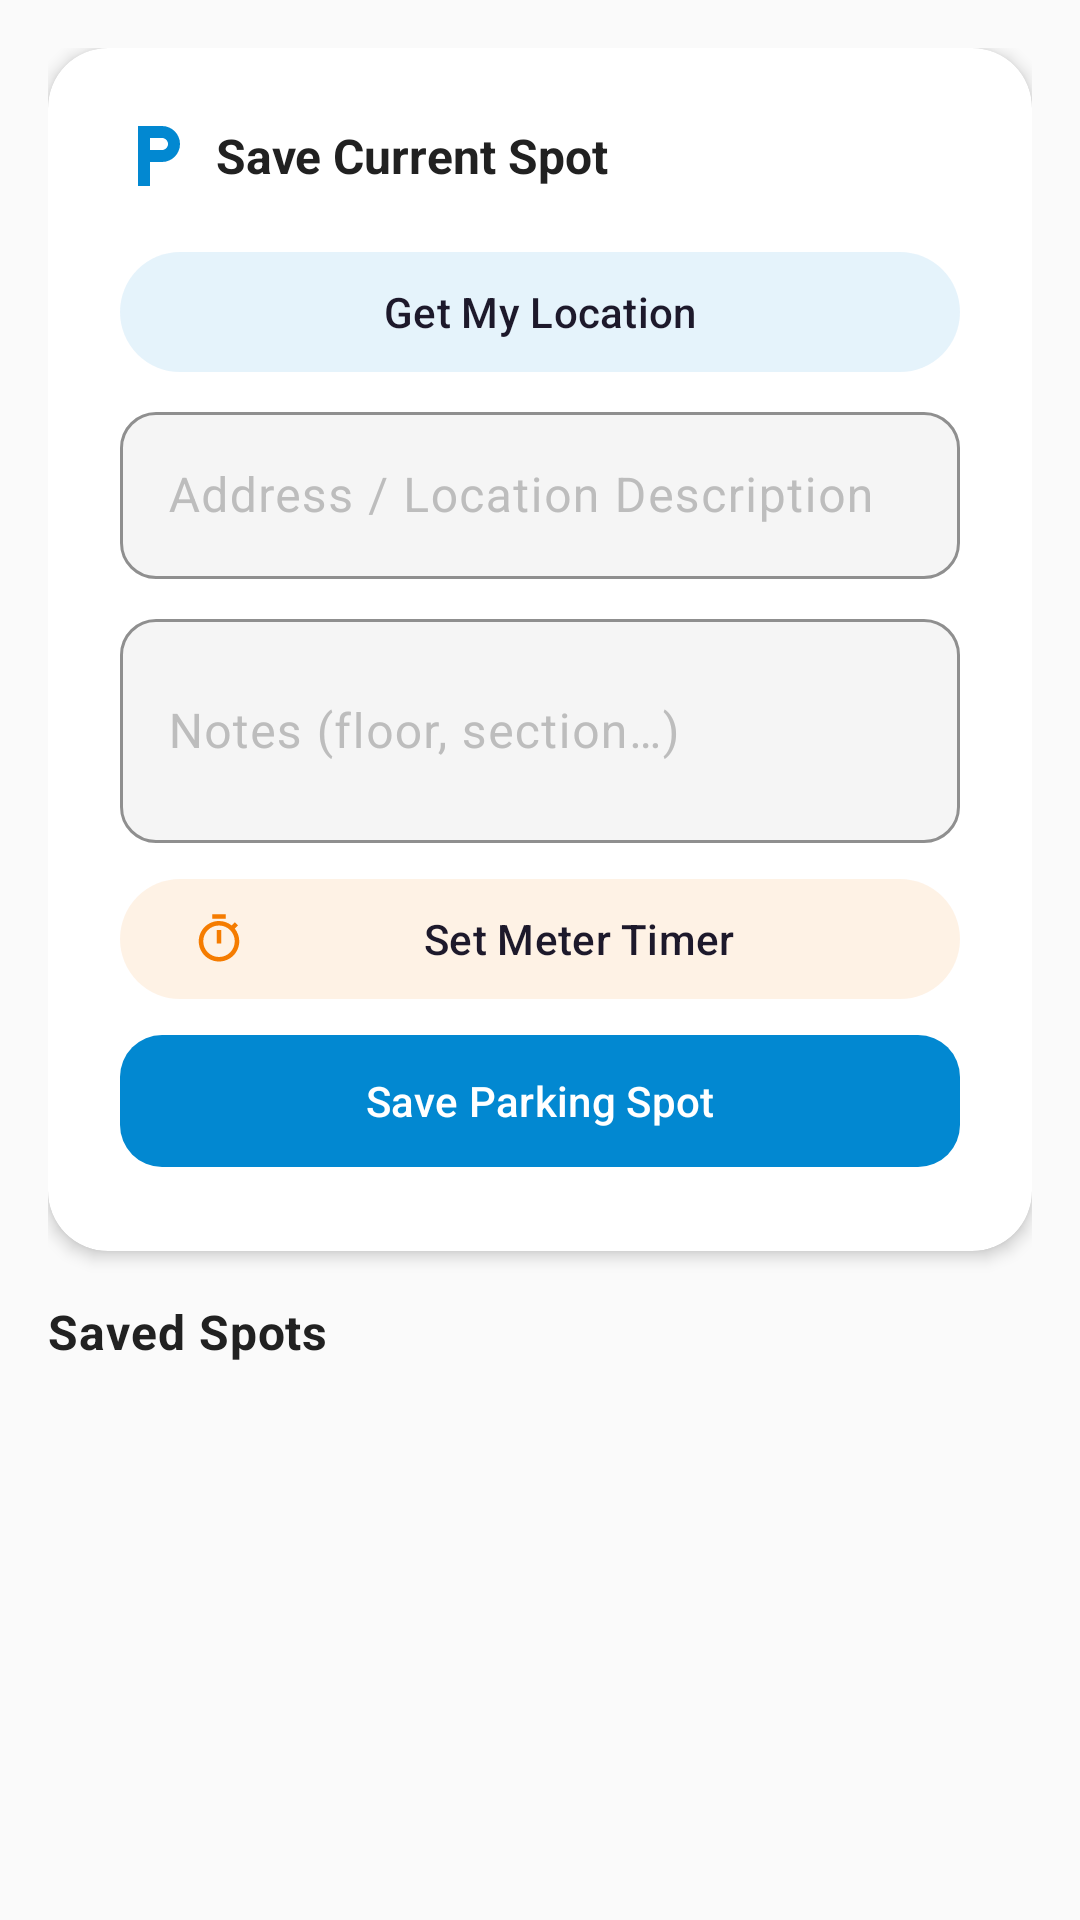

Named icons in this screenshot (1080 × 1920) and their bounding boxes, (x1, y1, x2, y2):
parking: (138, 126, 180, 186)
